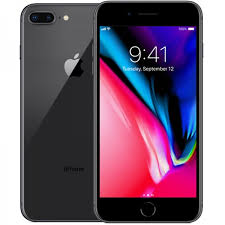iphone8: (17, 1, 205, 222), (90, 1, 205, 223), (17, 1, 100, 222)
